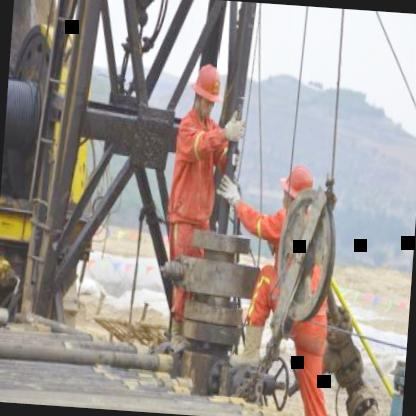helmet: (280, 162, 318, 221), (188, 60, 224, 122)
